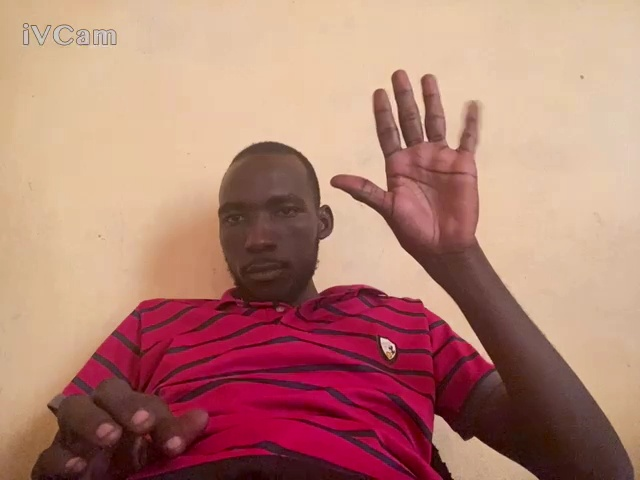Hello: (330, 62, 505, 279)
